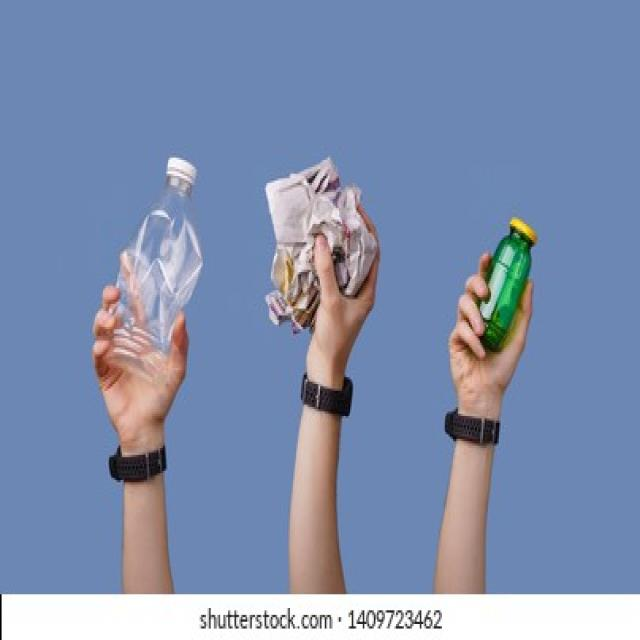glass: (467, 208, 537, 347)
paper: (254, 178, 388, 316)
plastic: (106, 155, 204, 368)
